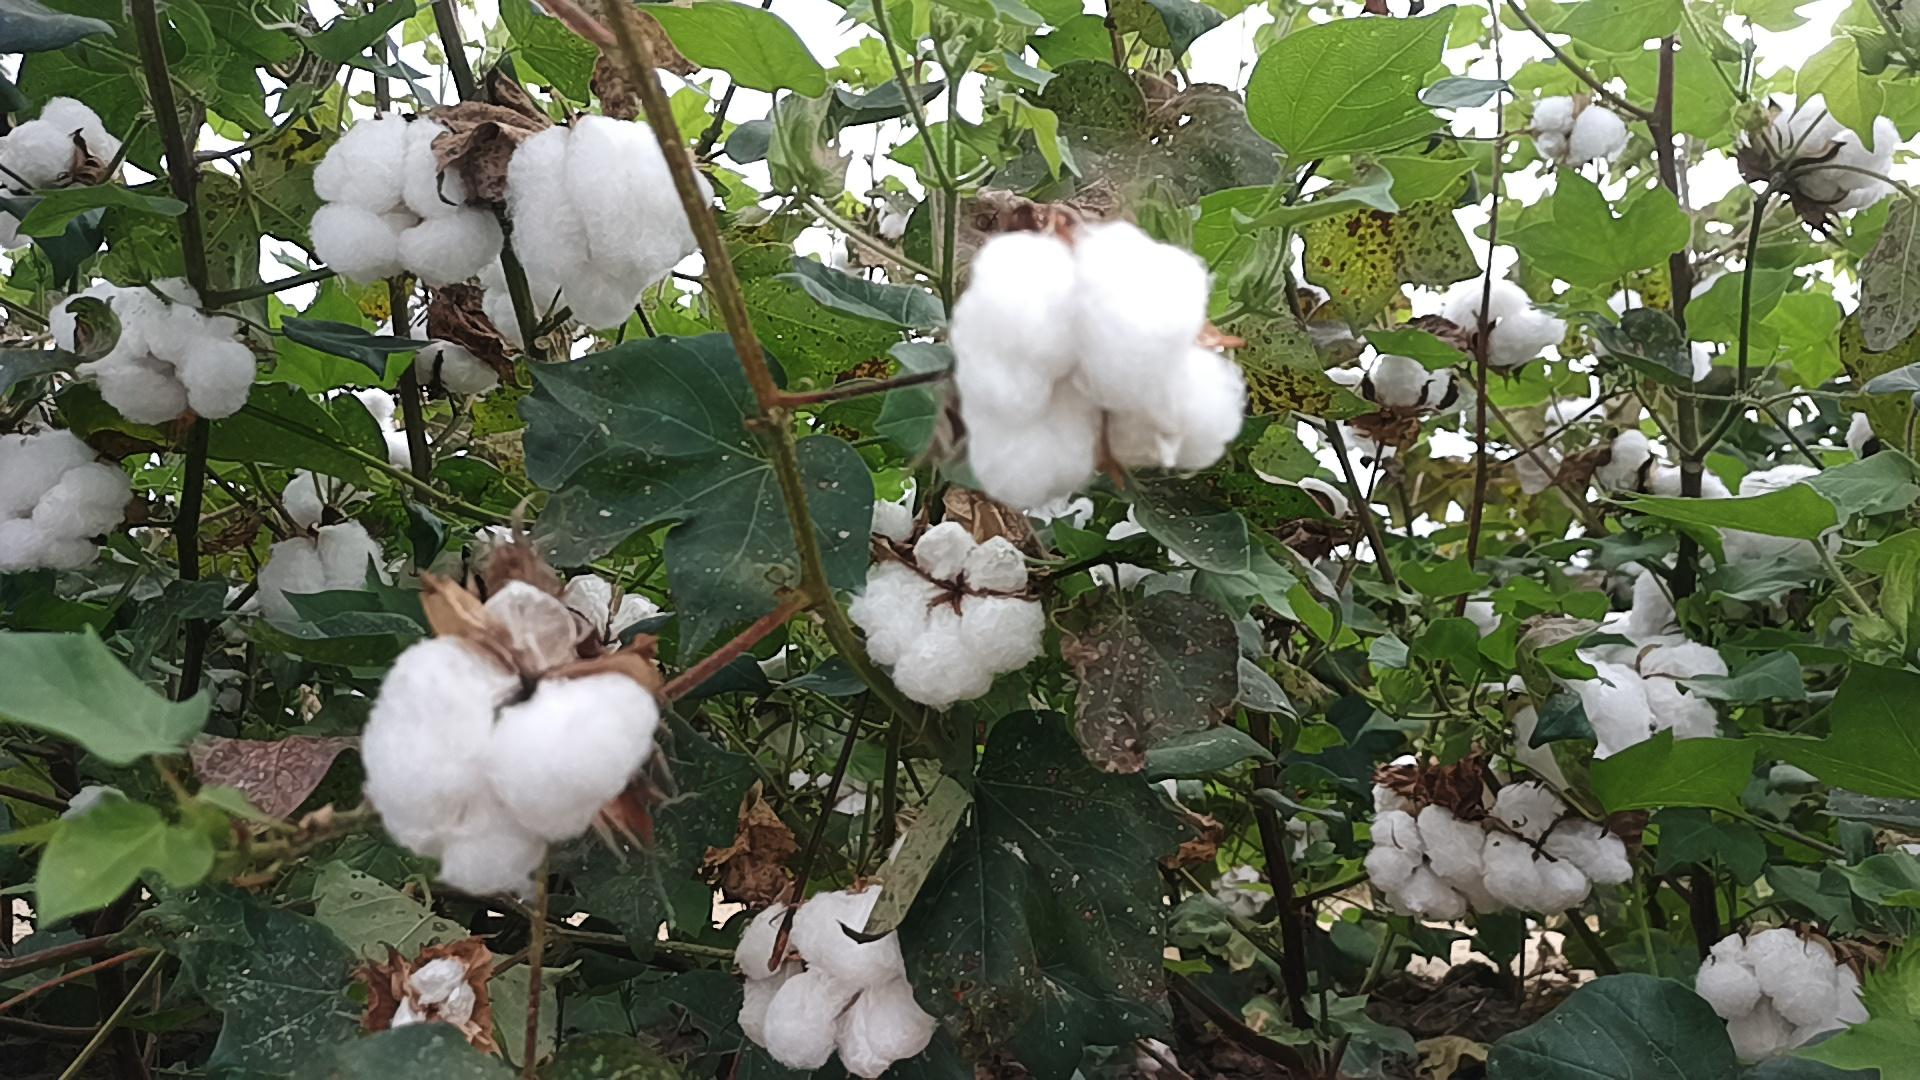cotton_ready: (953, 220, 1246, 505), (365, 638, 658, 891), (508, 116, 720, 330), (848, 524, 1054, 711), (733, 890, 938, 1076), (1489, 633, 1733, 778), (310, 117, 508, 284), (54, 293, 258, 419), (1705, 923, 1874, 1064), (1366, 749, 1484, 920), (1481, 781, 1634, 909), (0, 94, 125, 249), (0, 426, 125, 568), (381, 940, 493, 1042)
